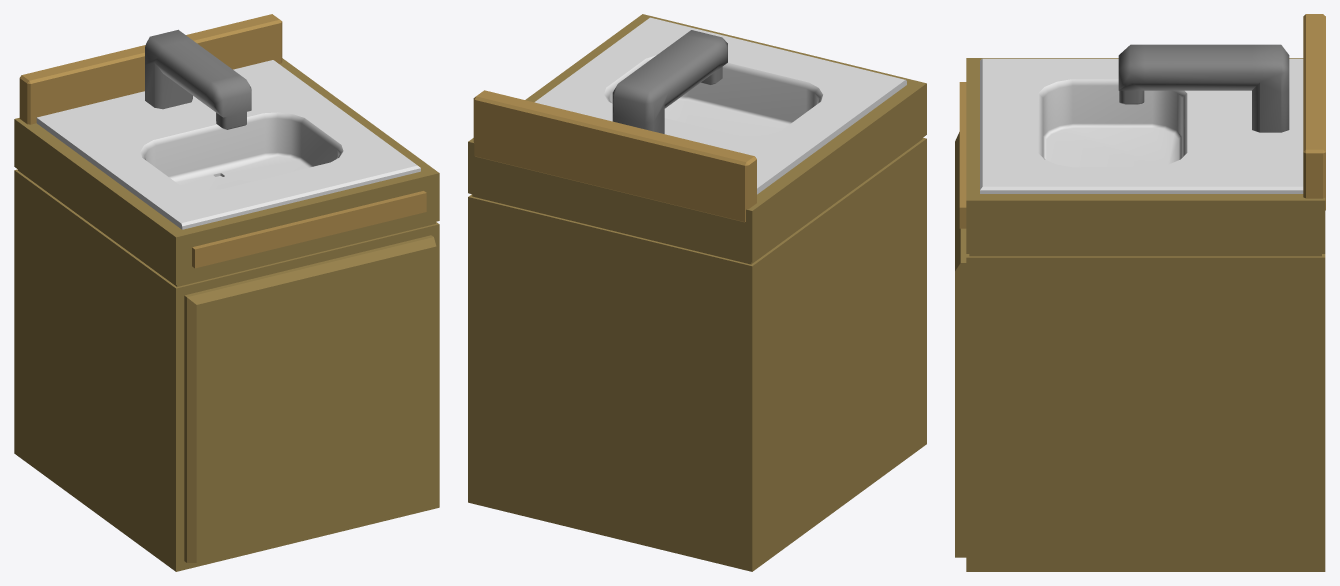
Rendered from KitchenSinkGeo.fbx.
3 views of the same model, side by side, from view 1: azimuth 30°, elevation 25°; view 2: azimuth 150°, elevation 25°; view 3: azimuth 270°, elevation 25° (orthographic). The views are drawn at different scales.
Visible parts, largest first — view 1: KitchenSinkGeo; view 2: KitchenSinkGeo; view 3: KitchenSinkGeo.
Part boxes in pixels (x1=…): KitchenSinkGeo: x1=14, y1=14, x2=439, y2=571; KitchenSinkGeo: x1=468, y1=14, x2=926, y2=571; KitchenSinkGeo: x1=955, y1=14, x2=1325, y2=571.
Bounding box in the file's own units: 172 × 251 × 189.
